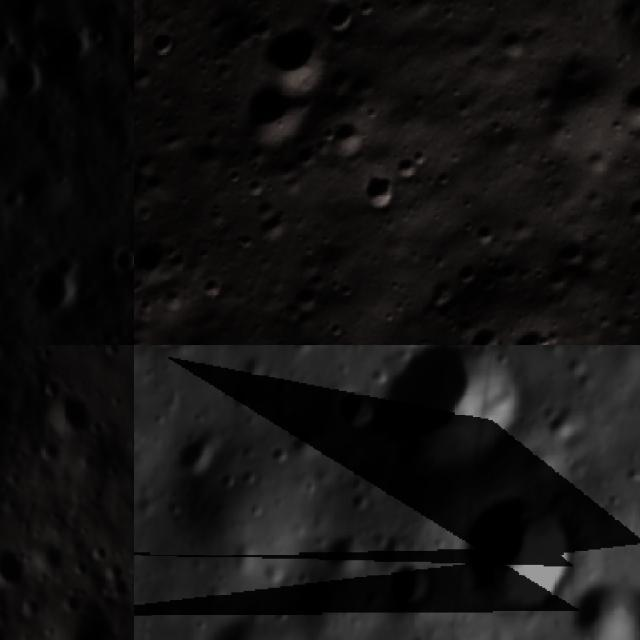crater: (365, 345, 539, 495), (448, 479, 592, 626), (223, 63, 328, 167), (248, 7, 351, 110), (163, 414, 238, 489), (19, 250, 87, 324), (134, 221, 194, 300), (314, 106, 379, 174), (378, 550, 440, 618), (349, 162, 410, 224), (326, 379, 384, 443), (274, 271, 332, 329), (0, 46, 52, 106), (545, 224, 600, 279), (382, 142, 436, 196), (498, 310, 567, 345), (55, 602, 118, 640), (142, 21, 189, 69), (46, 392, 96, 436), (608, 72, 640, 133), (457, 314, 513, 345), (100, 239, 134, 285), (0, 539, 30, 588), (36, 537, 69, 577), (617, 187, 640, 238), (301, 0, 361, 16), (38, 439, 67, 464)
